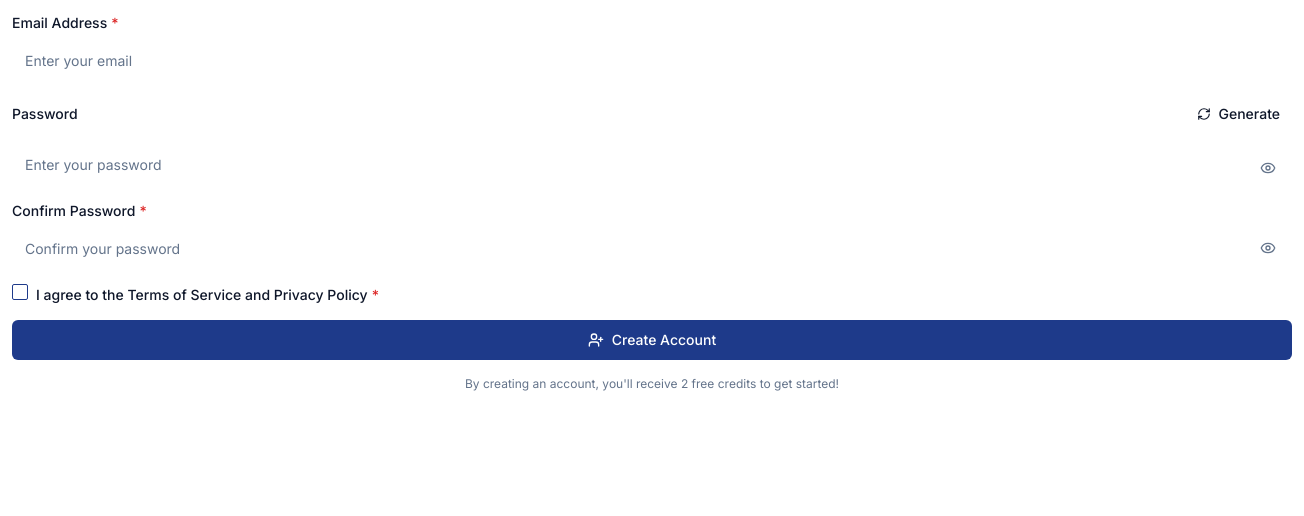
Test: RegisterForm › should clear error message on input change
Submit the form
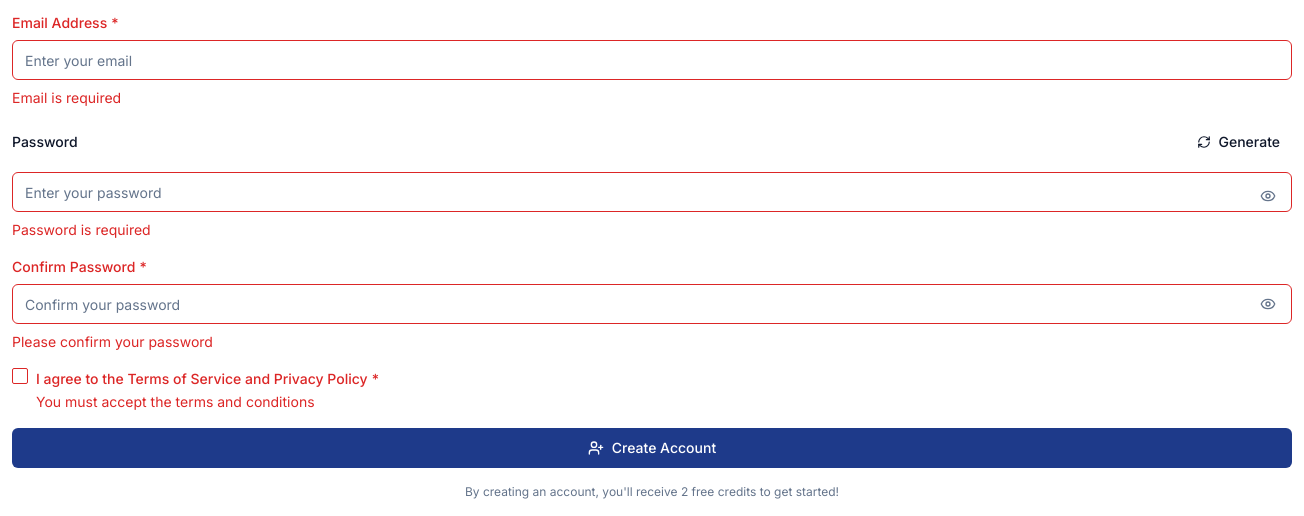
Now the text "Email is required" is shown, box [12,89,121,106]
Type "t" into the field labelled "Email Address*". click: (652, 60)
box: [12,40,1292,80]
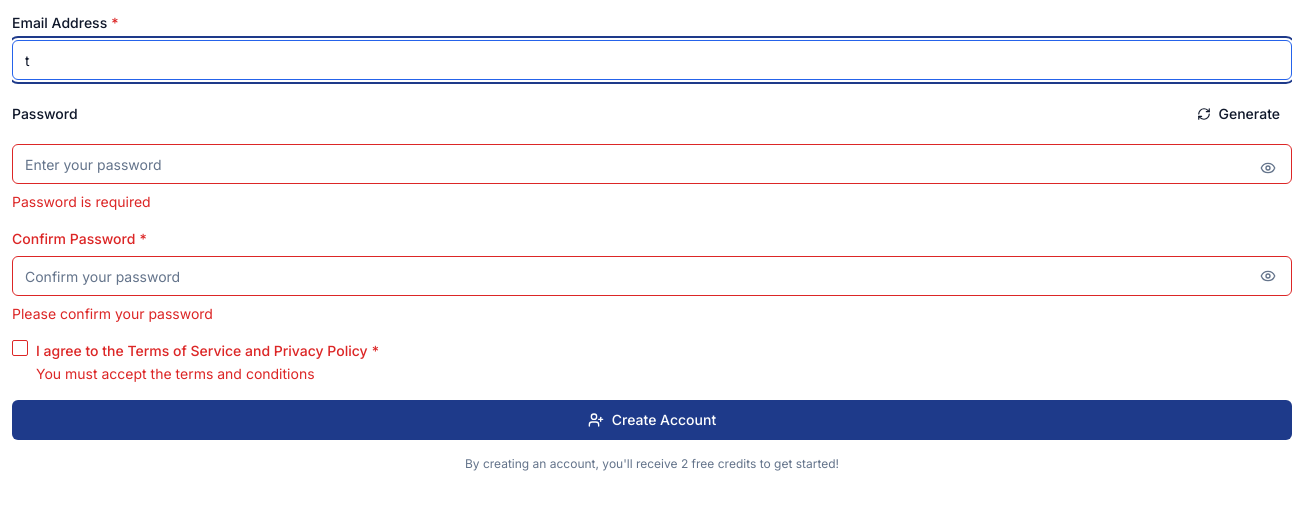
Now the text "Email is required" is gone
